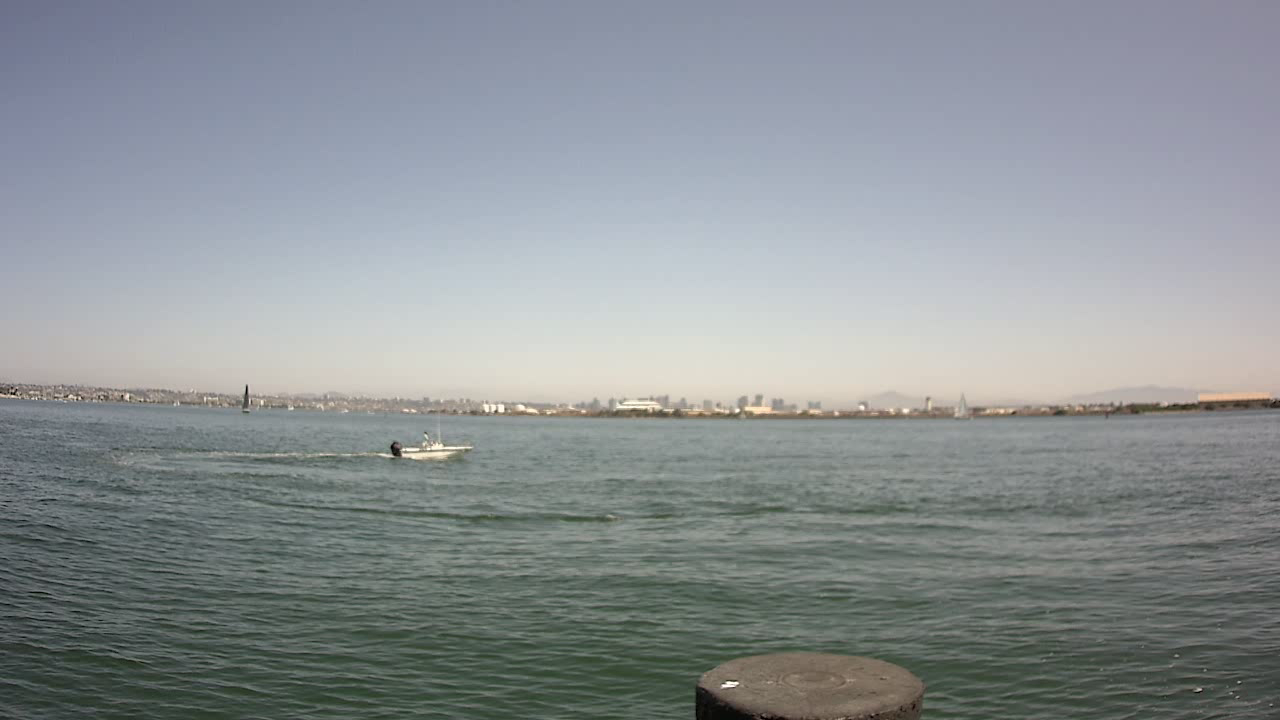target: (383, 411, 479, 472)
